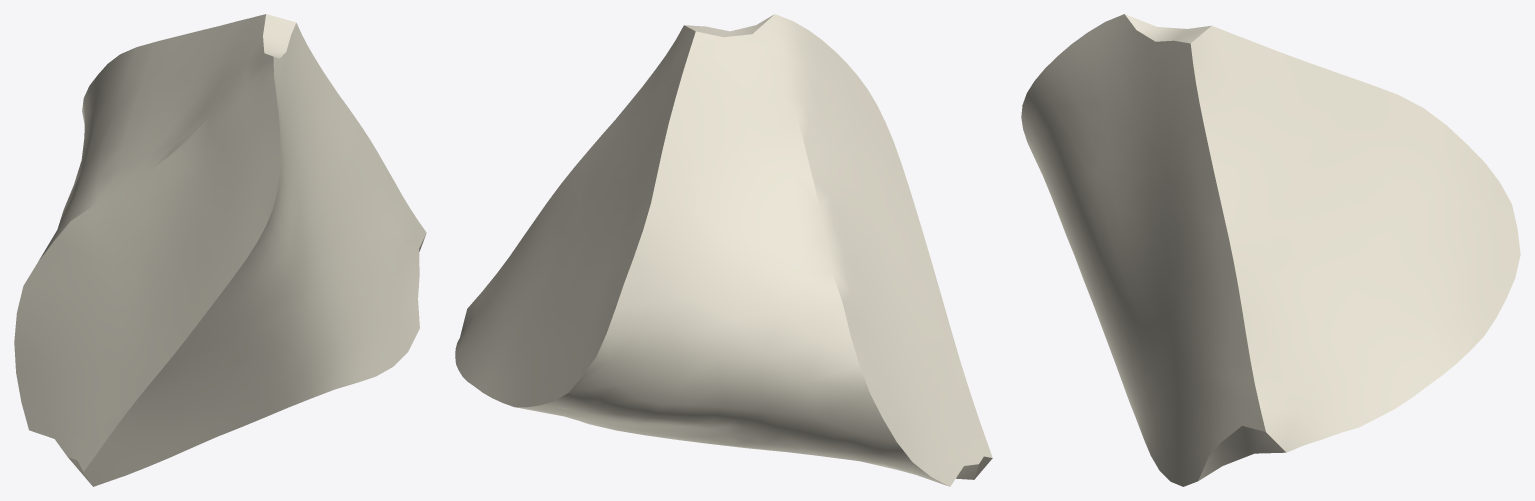
File: fma16330_mm2359m.glb
3 views of the same model, side by side, from view 1: azimuth 30°, elevation 25°; view 2: azimuth 150°, elevation 25°; view 3: azimuth 270°, elevation 25° (orthographic). The views are drawn at different scales.
Visible parts, largest first — view 1: FMA16330_MM2359M; view 2: FMA16330_MM2359M; view 3: FMA16330_MM2359M.
Boxes of the visible parts, x1,y1,x2,y2 form: FMA16330_MM2359M: (14, 14, 426, 486); FMA16330_MM2359M: (455, 14, 992, 486); FMA16330_MM2359M: (1021, 14, 1520, 486).
Size of the model in its own units: 0.00831 by 0.00736 by 0.00782.
